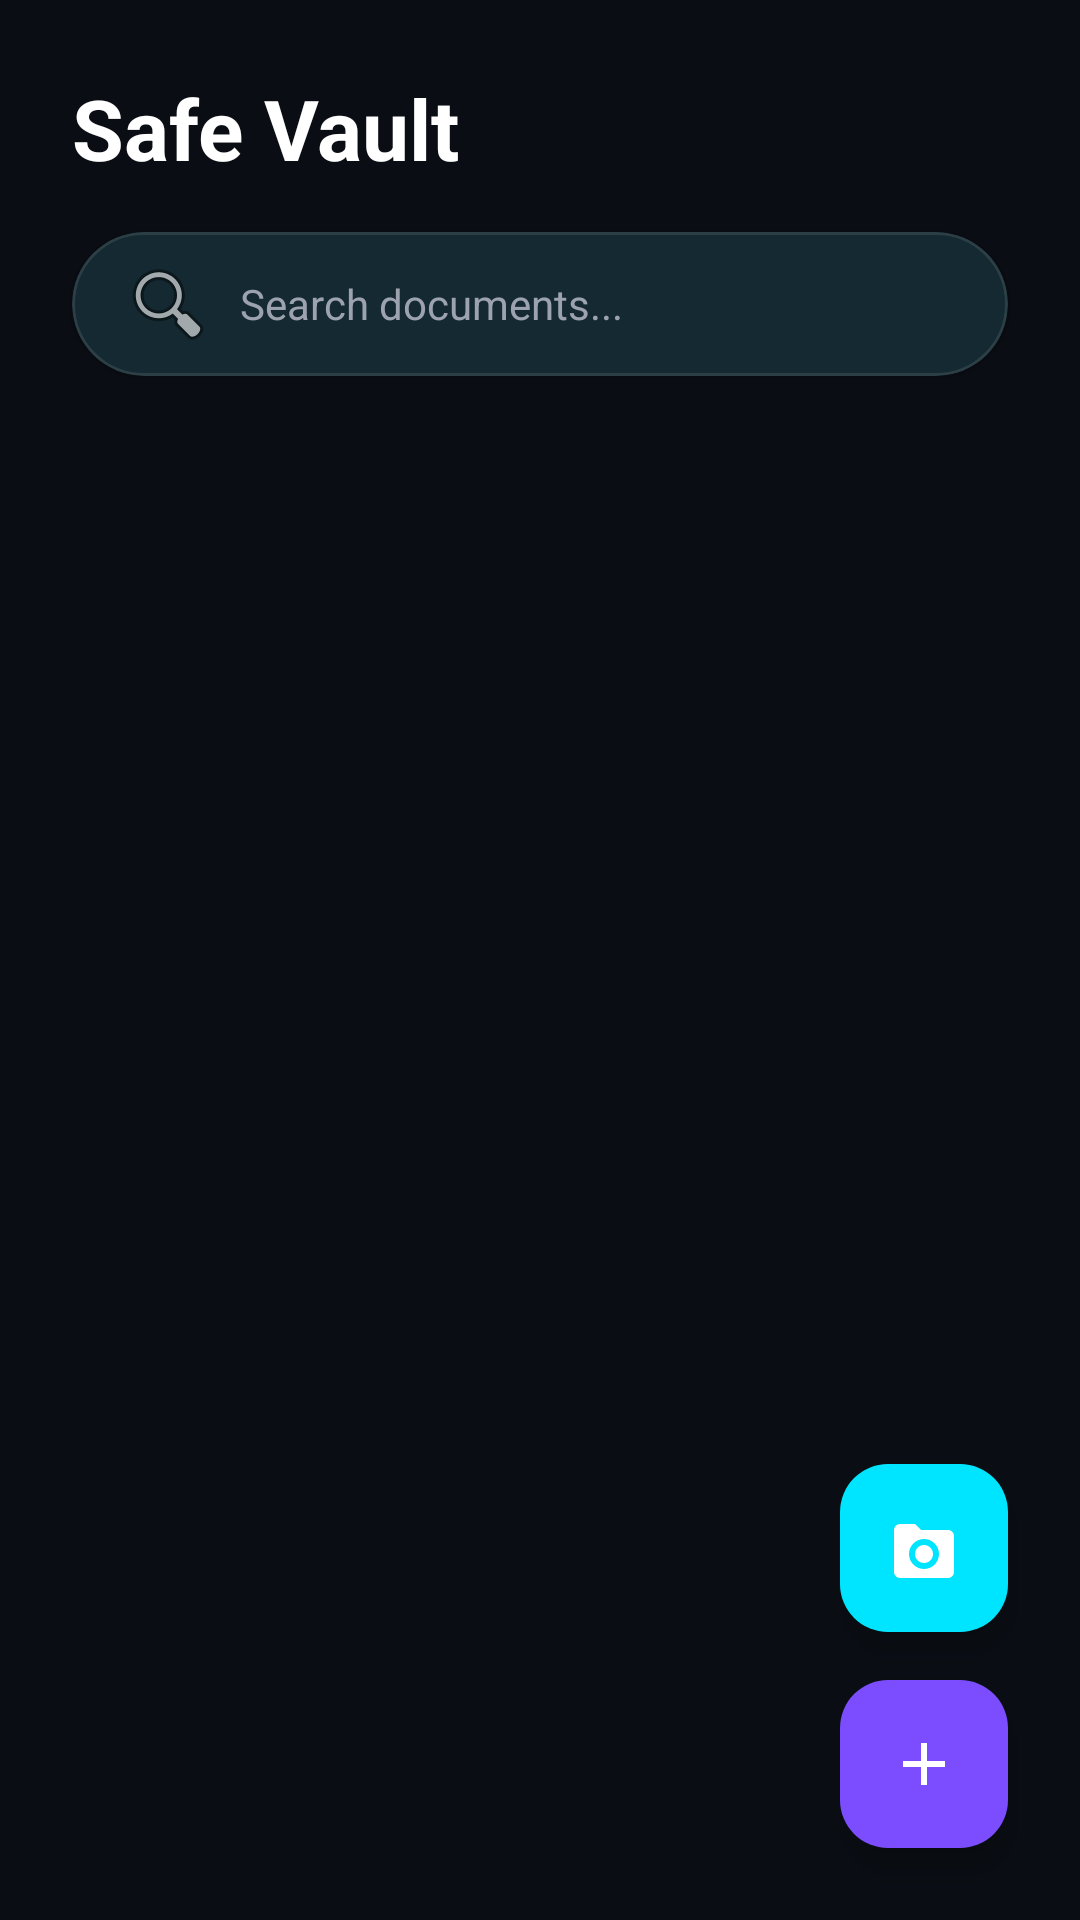

Named icons in this screenshot (1080px×1920px) and their bounding boxes, (x1, y1, x2, y2):
add: (840, 1680, 1008, 1848)
camera: (840, 1464, 1008, 1632)
